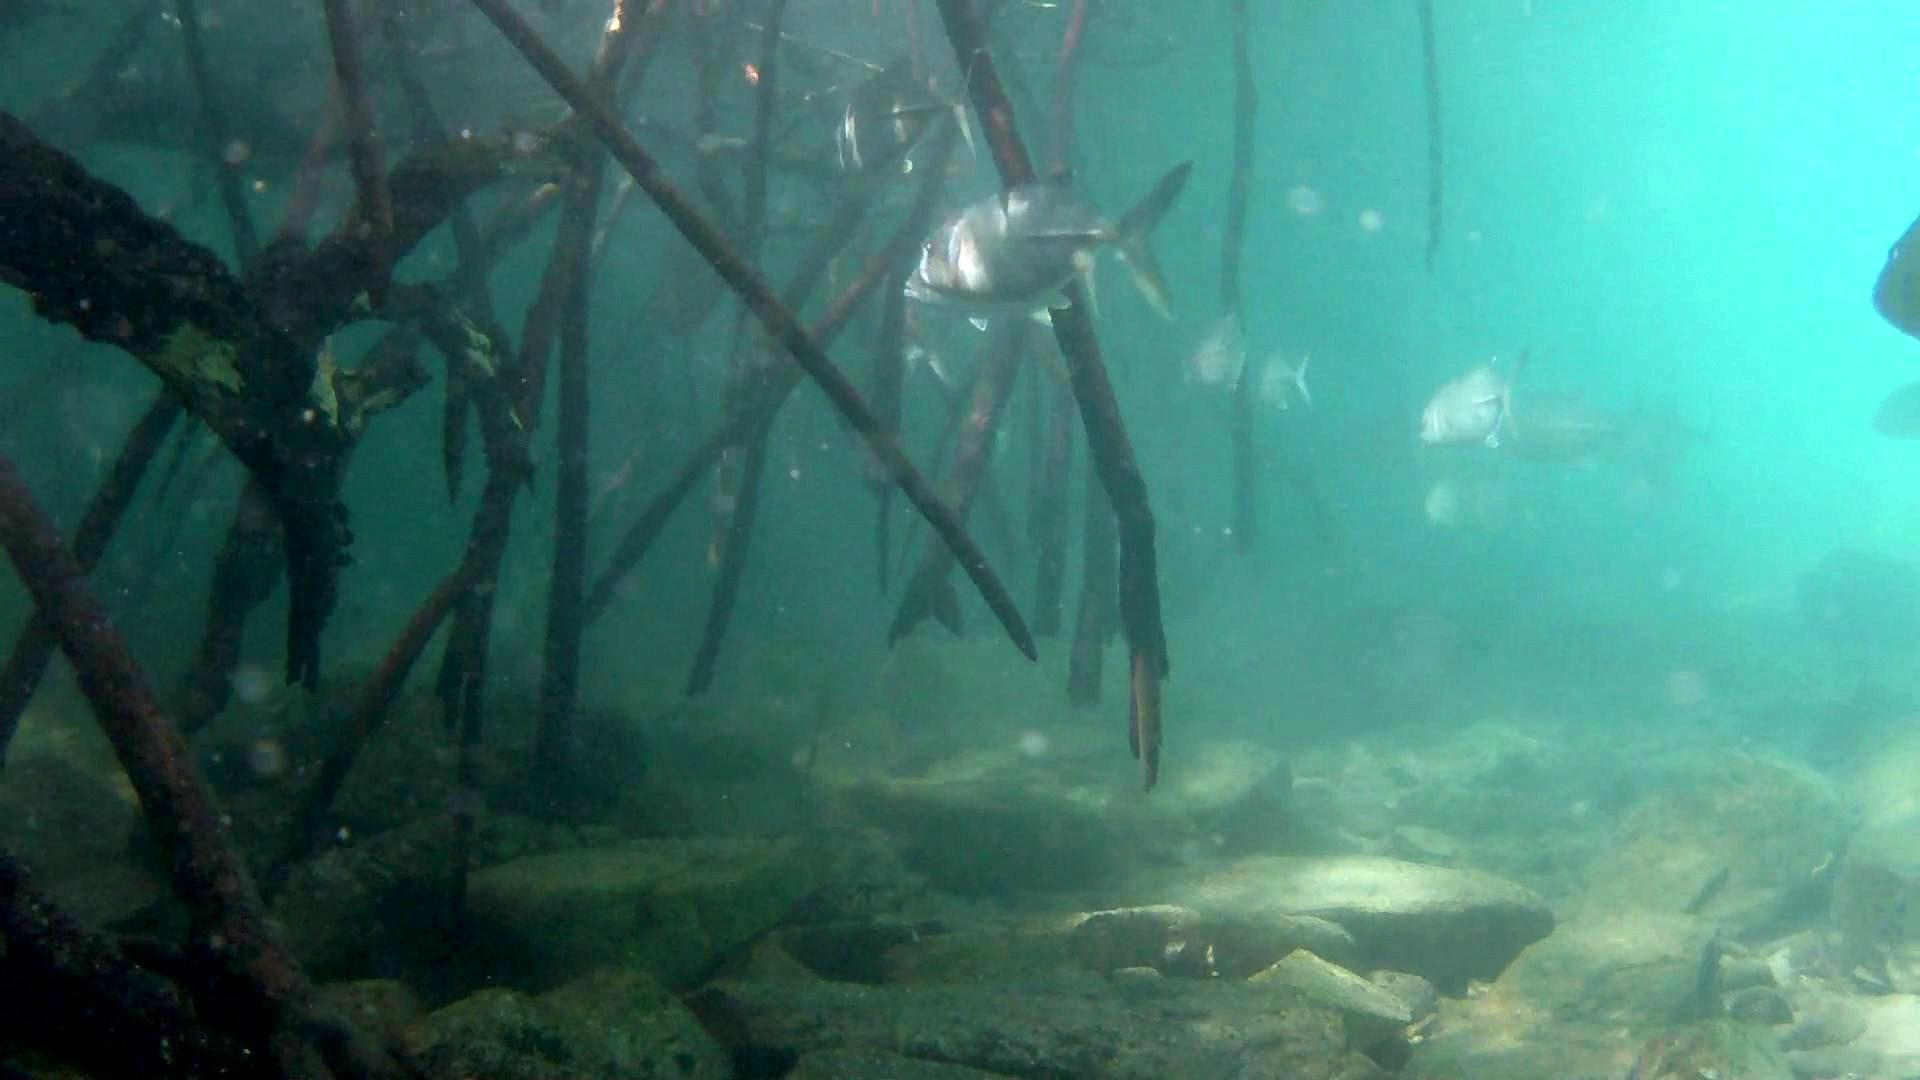caranx: (909, 150, 1212, 335), (820, 32, 990, 186)
